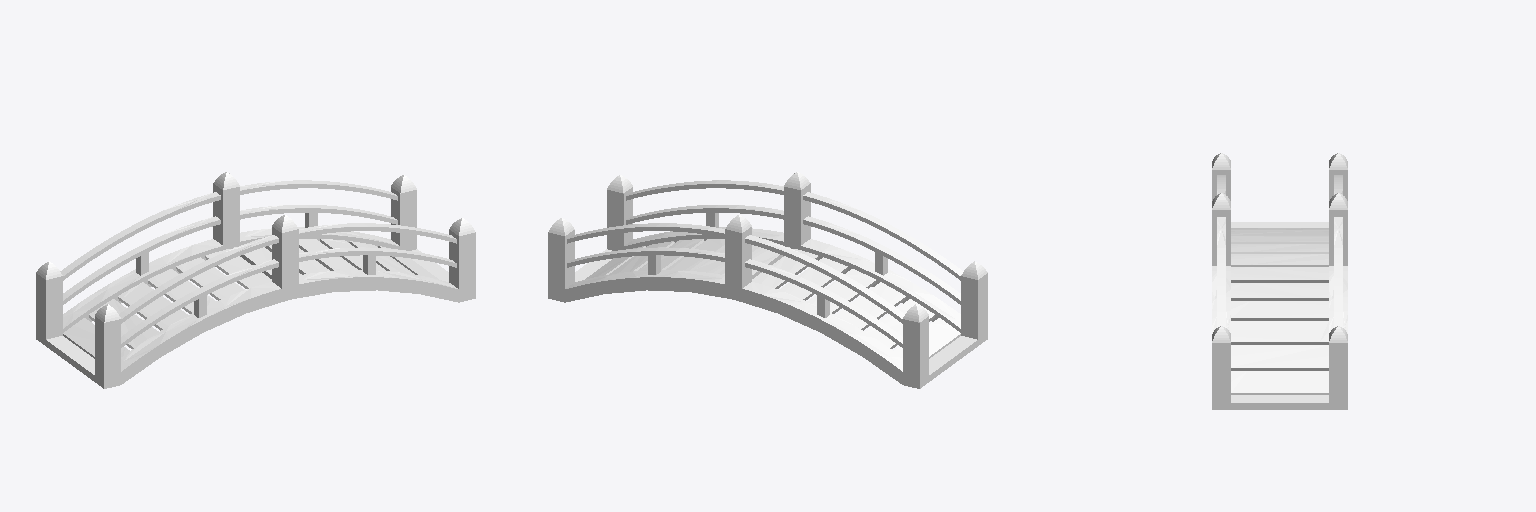
The model's file is bridge.obj.
3 views of the same model, side by side, from view 1: azimuth 30°, elevation 25°; view 2: azimuth 150°, elevation 25°; view 3: azimuth 270°, elevation 25° (orthographic).
Visible parts, largest first — view 1: obj14, obj13, obj9, obj16, obj11, obj8, obj10, obj12, obj7, obj3; view 2: obj13, obj14, obj9, obj16, obj11, obj8, obj10, obj12, obj7, obj3; view 3: obj13, obj14, obj6, obj4, obj5, obj3, obj2, obj1, obj15, obj12, obj11, obj10 (+1 smaller).
Boxes of the visible parts, box(x1,y1,x2,y2) form: obj14: box(95, 215, 475, 388); obj13: box(36, 172, 416, 345); obj9: box(118, 282, 187, 330); obj16: box(46, 336, 94, 381); obj11: box(176, 257, 244, 300); obj8: box(63, 318, 129, 358); obj10: box(148, 269, 215, 313); obj12: box(205, 249, 271, 288); obj7: box(89, 299, 158, 348); obj3: box(299, 239, 357, 270); obj13: box(548, 215, 928, 388); obj14: box(607, 172, 987, 345); obj9: box(836, 282, 905, 330); obj16: box(929, 336, 977, 381); obj11: box(779, 257, 847, 300); obj8: box(894, 318, 960, 358); obj10: box(808, 269, 875, 313); obj12: box(752, 249, 818, 288); obj7: box(865, 299, 934, 348); obj3: box(666, 239, 724, 270); obj13: box(1329, 153, 1347, 409); obj14: box(1212, 153, 1230, 409); obj6: box(1231, 345, 1328, 370); obj4: box(1231, 321, 1328, 344); obj5: box(1231, 371, 1328, 394); obj3: box(1231, 301, 1328, 320); obj2: box(1231, 283, 1328, 300); obj1: box(1231, 267, 1328, 282); obj15: box(1231, 395, 1328, 409); obj12: box(1231, 254, 1328, 266); obj11: box(1231, 244, 1328, 253); obj10: box(1231, 236, 1328, 243).
Bounding box in the file's own units: 88 × 28.5 × 28.